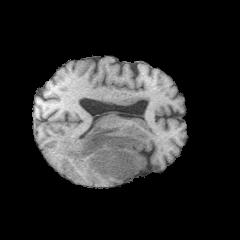glioma: (56, 125, 156, 183)
